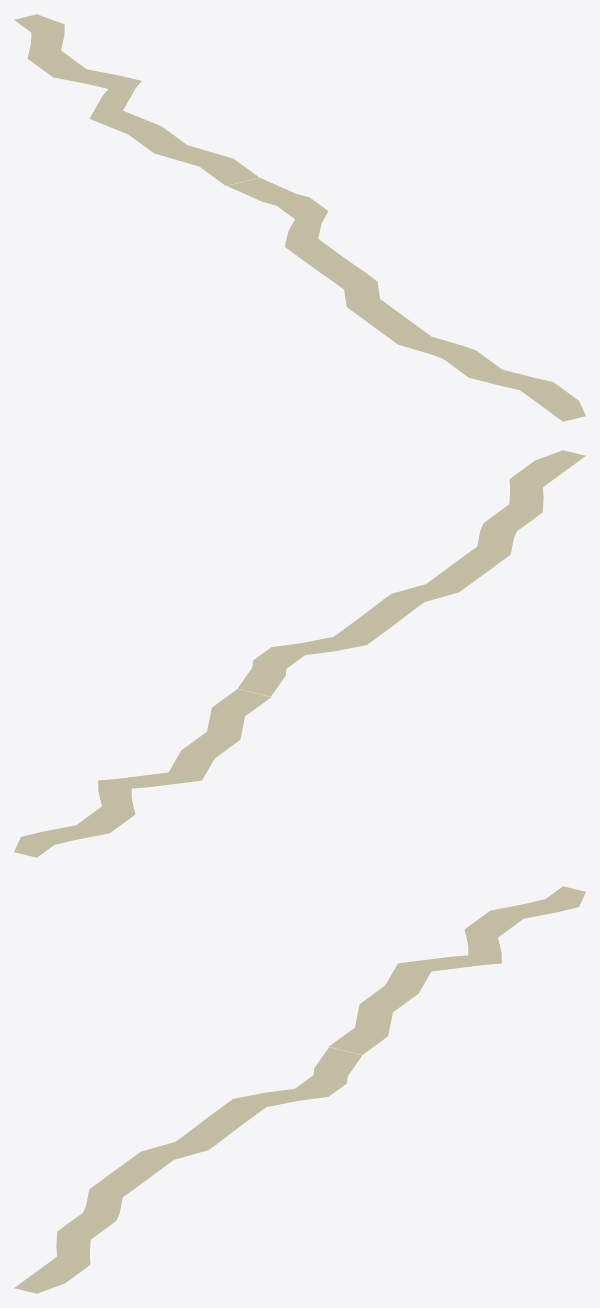
The model's file is foam_0_1a.fbx.
3 renders of one model, top to bottom at view 1: azimuth 30°, elevation 25°; view 2: azimuth 150°, elevation 25°; view 3: azimuth 330°, elevation 25°, orthographic.
Visible parts, largest first — view 1: foam_2; view 2: foam_2; view 3: foam_2.
Boxes of the visible parts, box(x1,y1,x2,y2) form: foam_2: box(14, 14, 585, 421); foam_2: box(14, 450, 585, 857); foam_2: box(14, 886, 585, 1293).
Bounding box in the file's own units: 3.8 × 1.19e-07 × 42.7.
